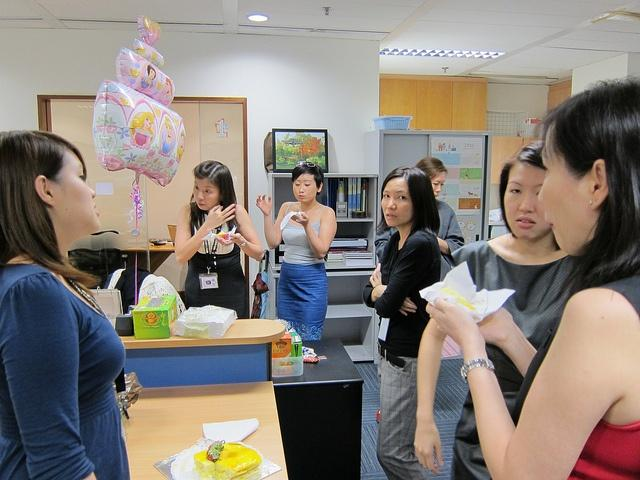Rak: (315, 172, 374, 360)
